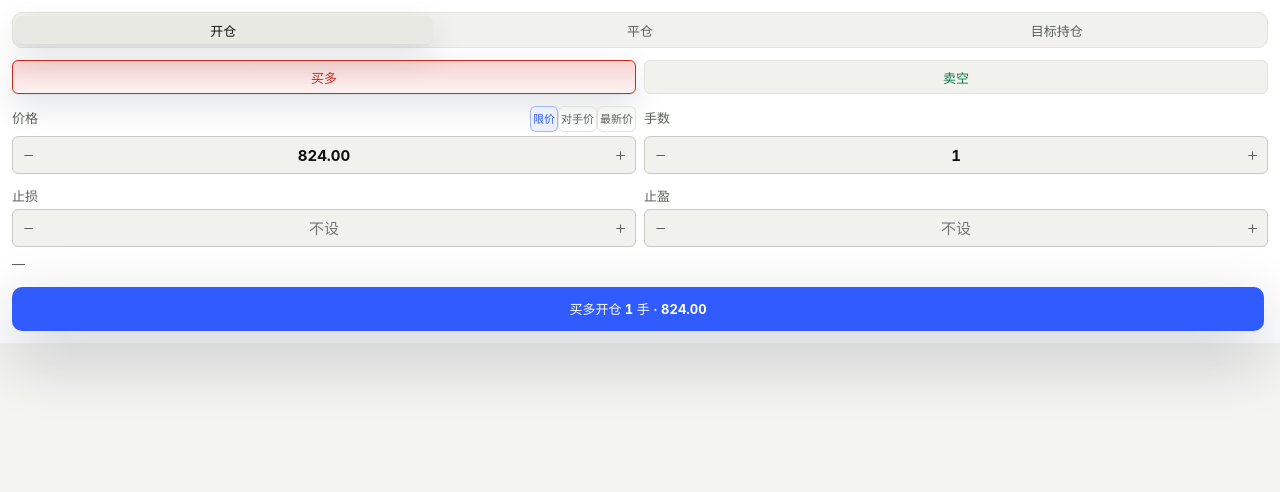
Test case: TradeTicket 下单顺带保护 › 方向不对显示中文原因并禁用确认；换边重新校验
Step 1. Type "825" into the number field with test id "stop-loss-input" → (324, 228), box top-left (43, 218), bottom-right (605, 238)
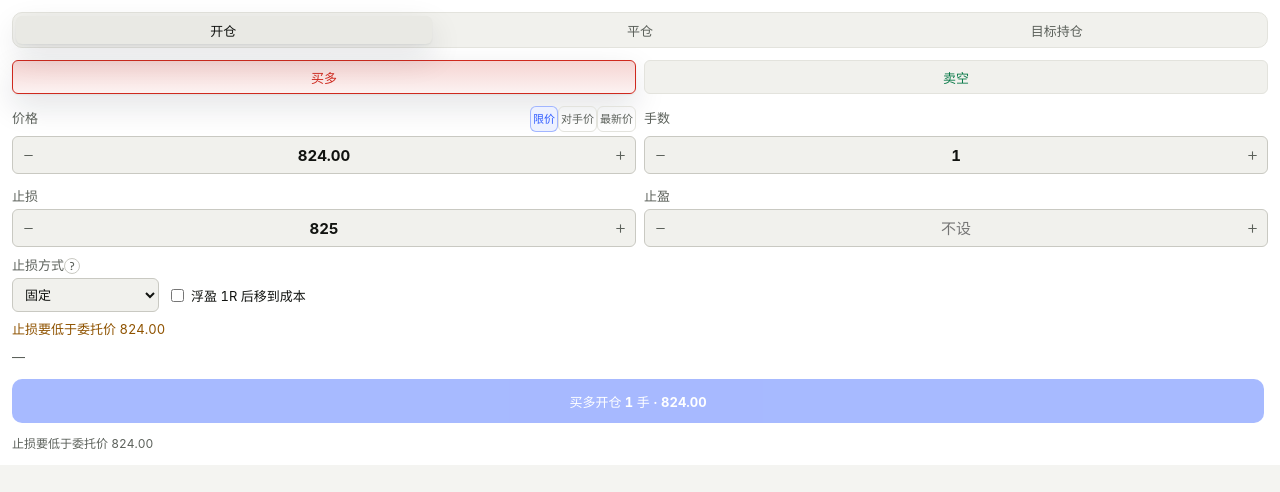
Expected: the text with test id "ticket-protection-estimate" shows "止损要低于委托价 824", top-left (12, 322), bottom-right (165, 338)
Expected: the button "买多开仓 1 手 · 824.00" is disabled, top-left (12, 380), bottom-right (1264, 424)
# 空头的止损在委托价上方：825 对卖空合法，换边即重新校验
Step 2. Click the button "卖空" → (956, 77), box top-left (644, 60), bottom-right (1268, 94)
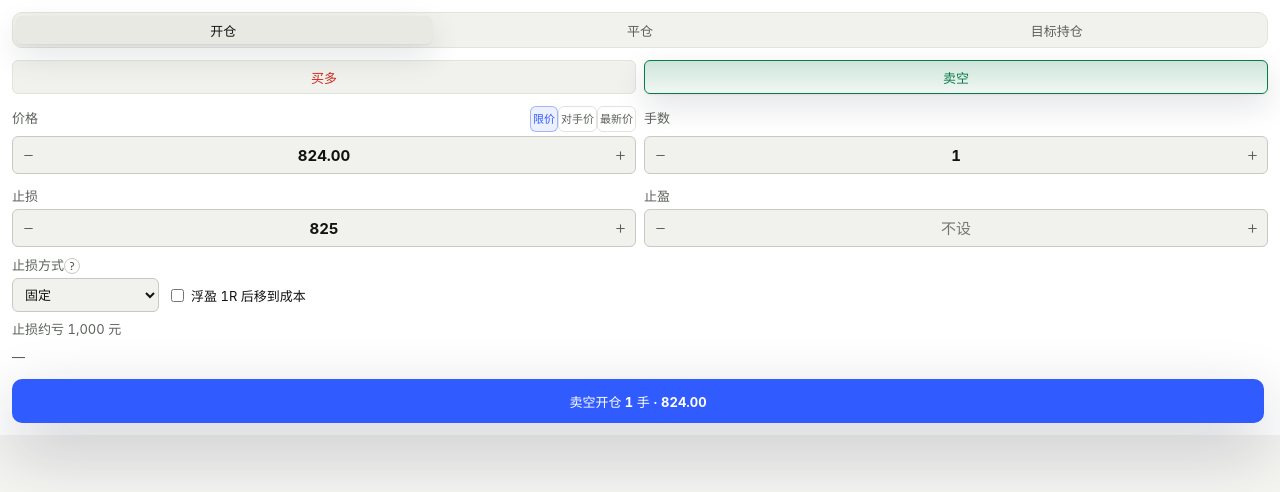
Expected: the text with test id "ticket-protection-estimate" reads "止损约亏 1,000 元", top-left (12, 322), bottom-right (121, 338)
Expected: the button "卖空开仓 1 手 · 824.00" is enabled, top-left (12, 380), bottom-right (1264, 424)
